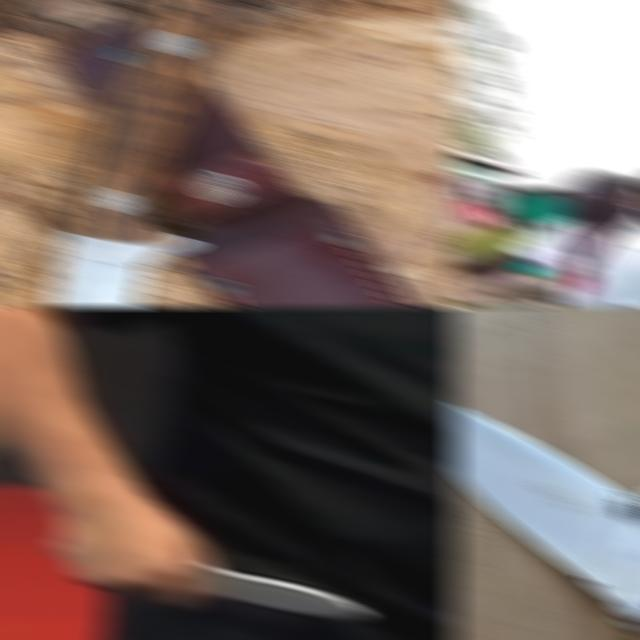Knife: (188, 560, 370, 618)
Knife_Handle: (60, 522, 380, 630)
